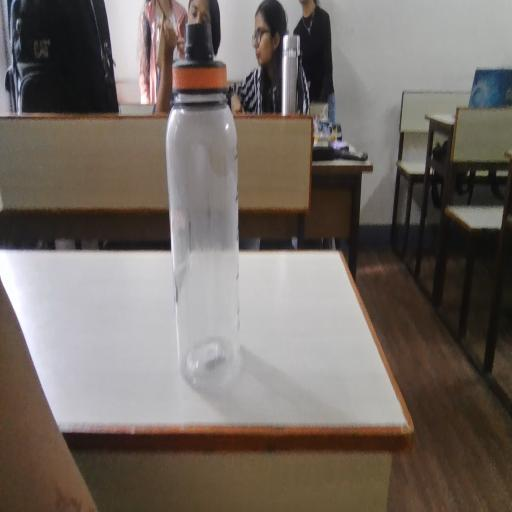Bottle: (163, 35, 245, 362)
